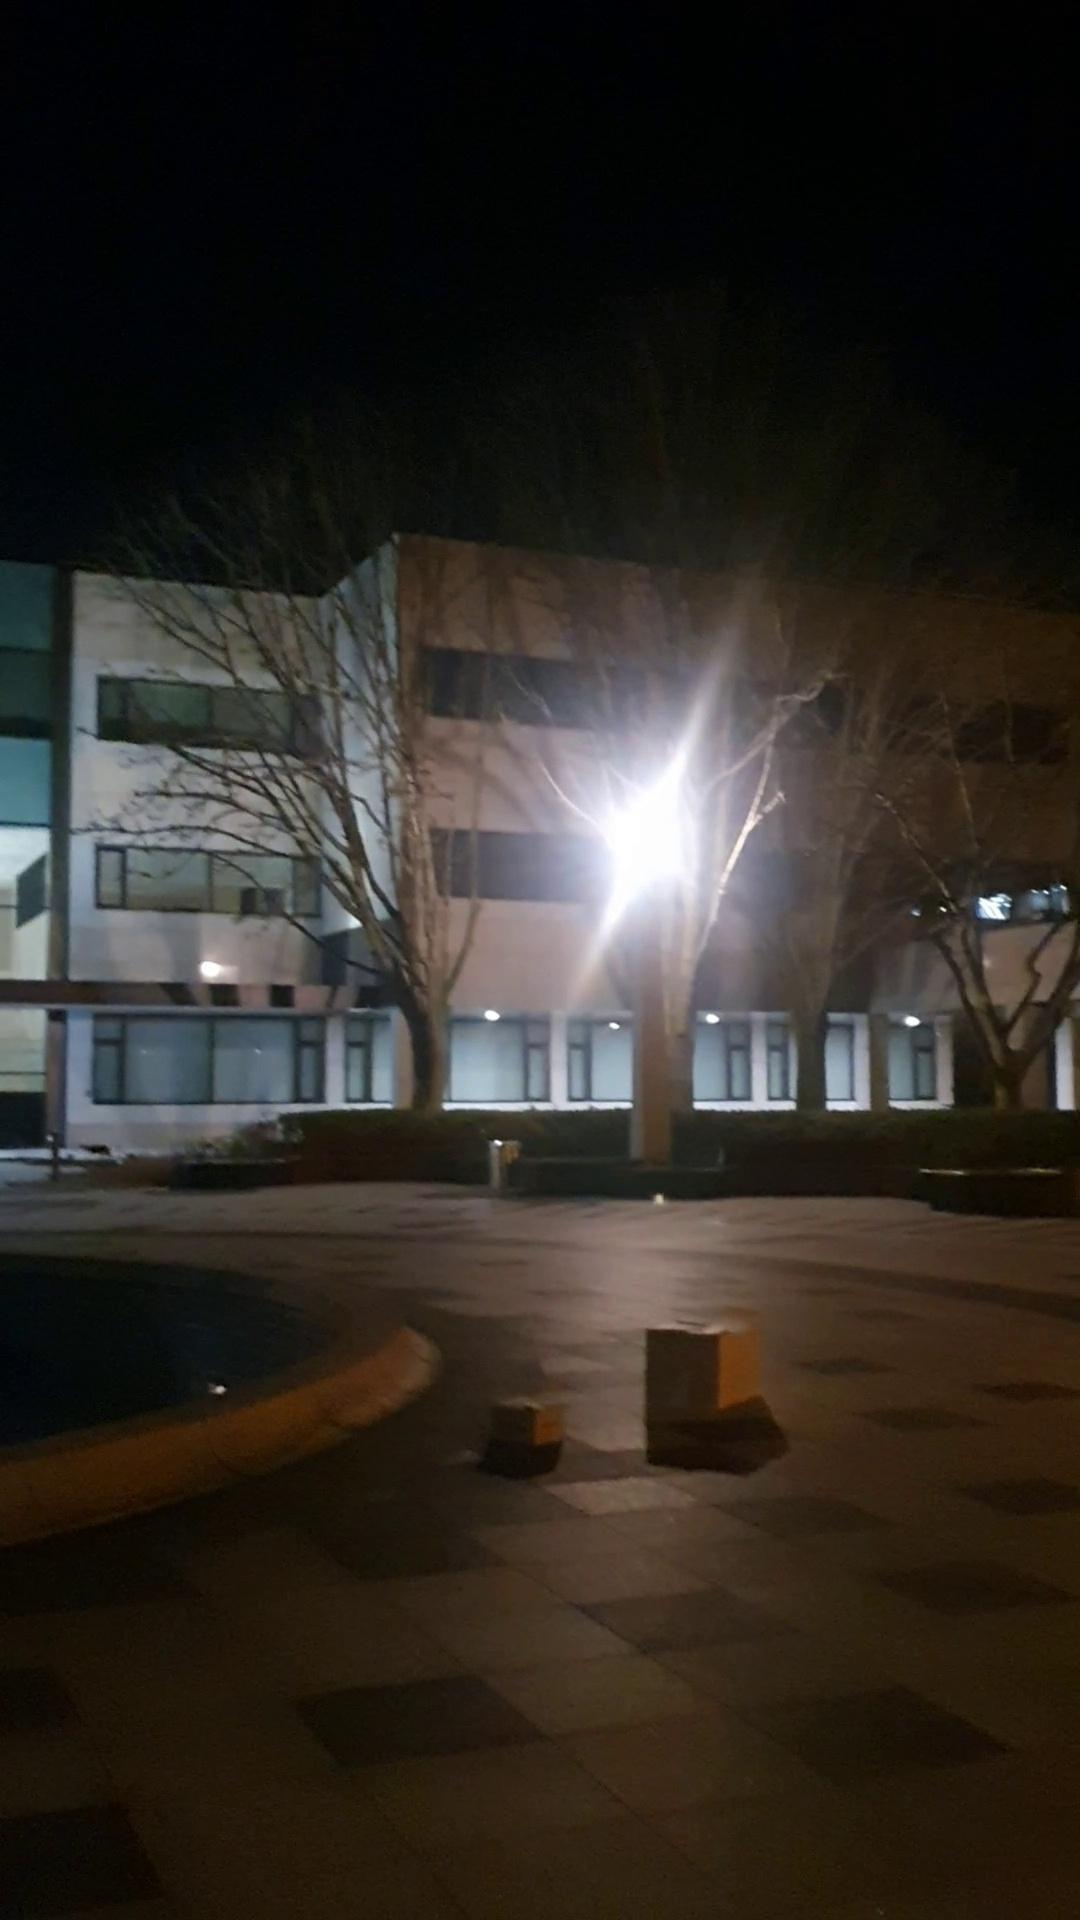Box: (641, 1317, 777, 1435), (476, 1370, 580, 1466)
